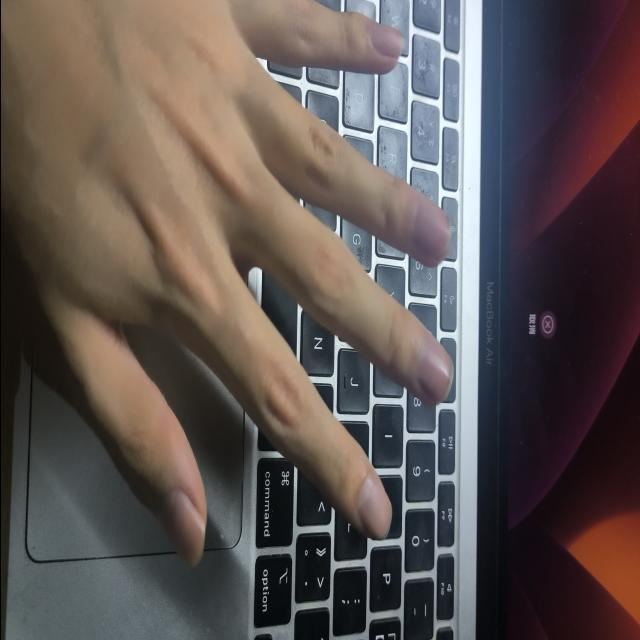Nail: (155, 489, 204, 568), (409, 197, 450, 264), (417, 334, 452, 405), (356, 474, 391, 541), (368, 22, 403, 59)
